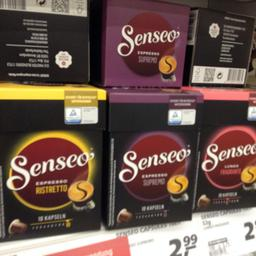coffee: (0, 79, 105, 240), (105, 88, 201, 225), (100, 0, 190, 89)
